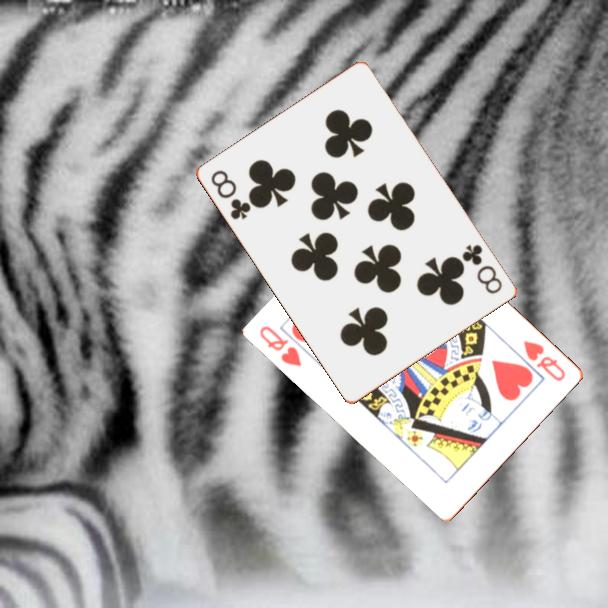c08: (459, 241, 506, 297), (208, 166, 254, 223)
h12: (256, 322, 305, 370), (520, 337, 569, 384)
